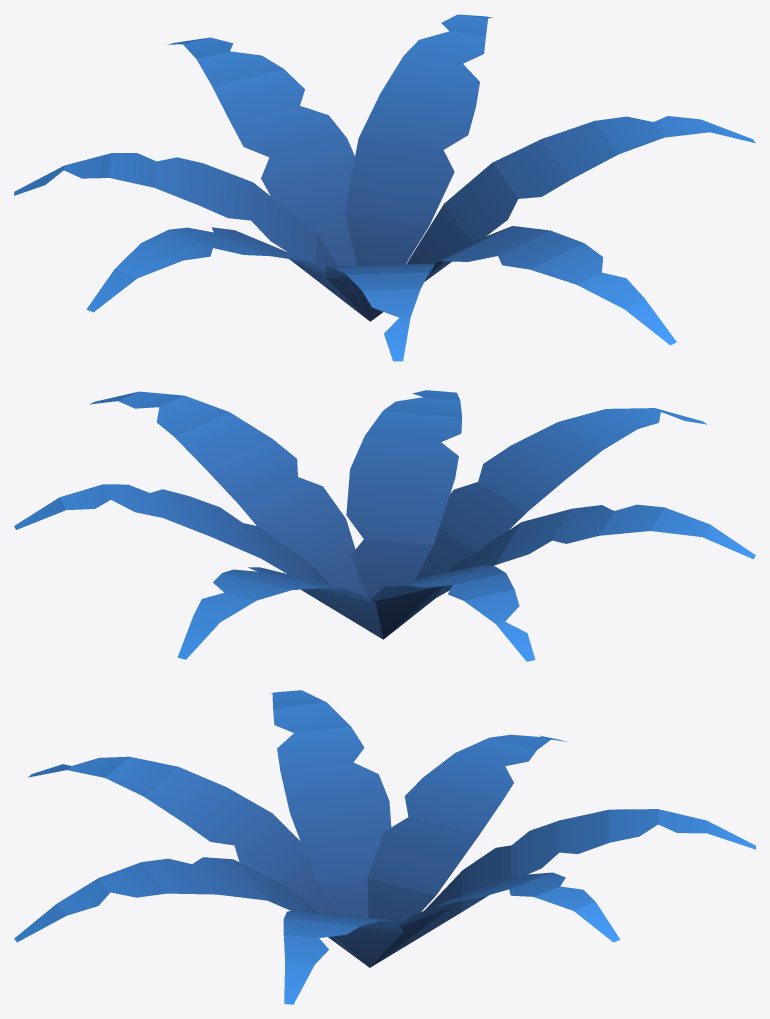
File: BlueFern.fbx
3 views of the same model, one above another, from view 1: azimuth 30°, elevation 25°; view 2: azimuth 150°, elevation 25°; view 3: azimuth 270°, elevation 25° (orthographic). The views are drawn at different scales.
Visible parts, largest first — view 1: BlueFern; view 2: BlueFern; view 3: BlueFern.
Part boxes in pixels (x1,y1,x2,y2): BlueFern: [14, 14, 755, 361]; BlueFern: [14, 390, 755, 661]; BlueFern: [14, 690, 755, 1004].
Bounding box in the file's own units: 433 × 106 × 434.
